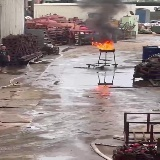fire: (92, 40, 114, 49)
